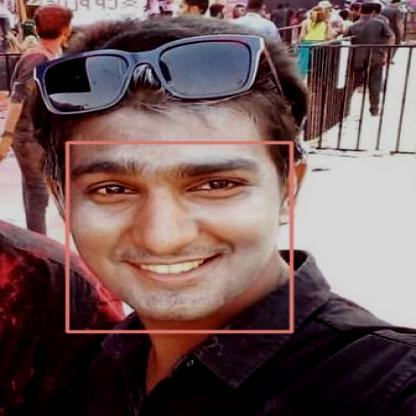without_mask: (67, 142, 291, 331)
